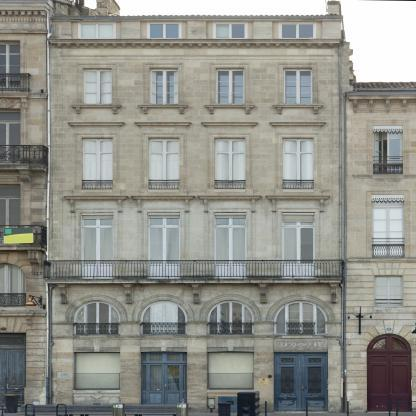Balcony: (44, 261, 342, 279)
Building Outline: (49, 0, 357, 413)
Cornice: (266, 294, 335, 322), (65, 294, 127, 322), (132, 294, 194, 322), (199, 294, 261, 322), (130, 195, 196, 213), (63, 195, 128, 213), (265, 195, 330, 213), (197, 195, 262, 213), (66, 122, 126, 128), (133, 122, 193, 128), (199, 122, 259, 128), (268, 122, 327, 128), (207, 347, 254, 352), (140, 347, 187, 352), (73, 348, 120, 352)
Deco: (275, 341, 326, 348), (122, 283, 134, 304), (56, 284, 68, 304), (190, 284, 202, 304), (257, 284, 269, 304), (329, 283, 340, 303)
Door: (273, 352, 328, 411), (282, 227, 315, 278), (81, 227, 113, 279), (214, 227, 246, 278), (148, 227, 179, 278), (148, 364, 182, 405)
Facade: (47, 15, 344, 413)
Floor: (48, 197, 344, 279), (48, 60, 344, 122), (48, 130, 344, 190), (48, 286, 344, 335)
Floor Slab: (48, 53, 344, 60), (48, 336, 344, 343), (48, 279, 344, 286), (48, 190, 344, 197), (48, 123, 344, 130)
Ground Floor: (48, 342, 344, 413)
Molding: (48, 39, 342, 48), (53, 335, 341, 340), (60, 55, 333, 60)
Sill: (69, 105, 123, 114), (136, 105, 190, 114), (271, 105, 324, 114), (203, 105, 256, 114)
Top Floor: (48, 19, 344, 53)
Window: (274, 300, 328, 335), (207, 352, 254, 390), (73, 353, 120, 391), (73, 300, 120, 335), (207, 300, 254, 335), (282, 138, 314, 189), (81, 138, 113, 189), (141, 300, 187, 335), (148, 138, 179, 189), (214, 138, 245, 189), (283, 68, 312, 105), (149, 68, 178, 105), (83, 68, 112, 105), (216, 68, 244, 105), (280, 23, 315, 38), (79, 23, 114, 38), (282, 212, 315, 227), (214, 212, 246, 227), (148, 23, 180, 38), (214, 23, 246, 38), (148, 212, 179, 227), (81, 213, 113, 227), (183, 365, 187, 391), (150, 354, 162, 361), (168, 354, 180, 361), (142, 365, 145, 391), (183, 354, 187, 361), (142, 354, 145, 361)
